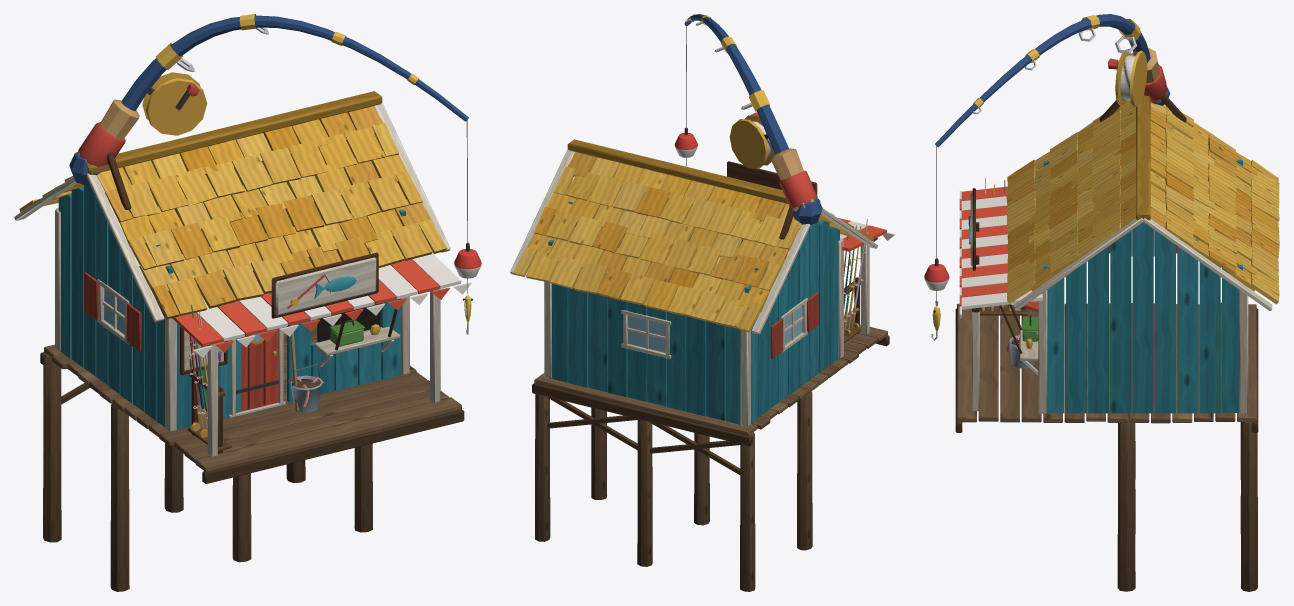
Rendered from tackle-shop.glb.
The picture shows the model from 3 angles, left to right: view 1: azimuth 30°, elevation 25°; view 2: azimuth 150°, elevation 25°; view 3: azimuth 270°, elevation 25°; orthographic projection. The views are drawn at different scales.
Parts seen in each view (by area): view 1: tackle-shop; view 2: tackle-shop; view 3: tackle-shop.
Boxes of the visible parts, x1,y1,x2,y2 form: tackle-shop: [14, 14, 481, 591]; tackle-shop: [510, 14, 895, 591]; tackle-shop: [924, 14, 1279, 591].
Bounding box in the file's own units: 5.73 × 10.14 × 6.37.
Materials: 6 (3 with a texture image).
